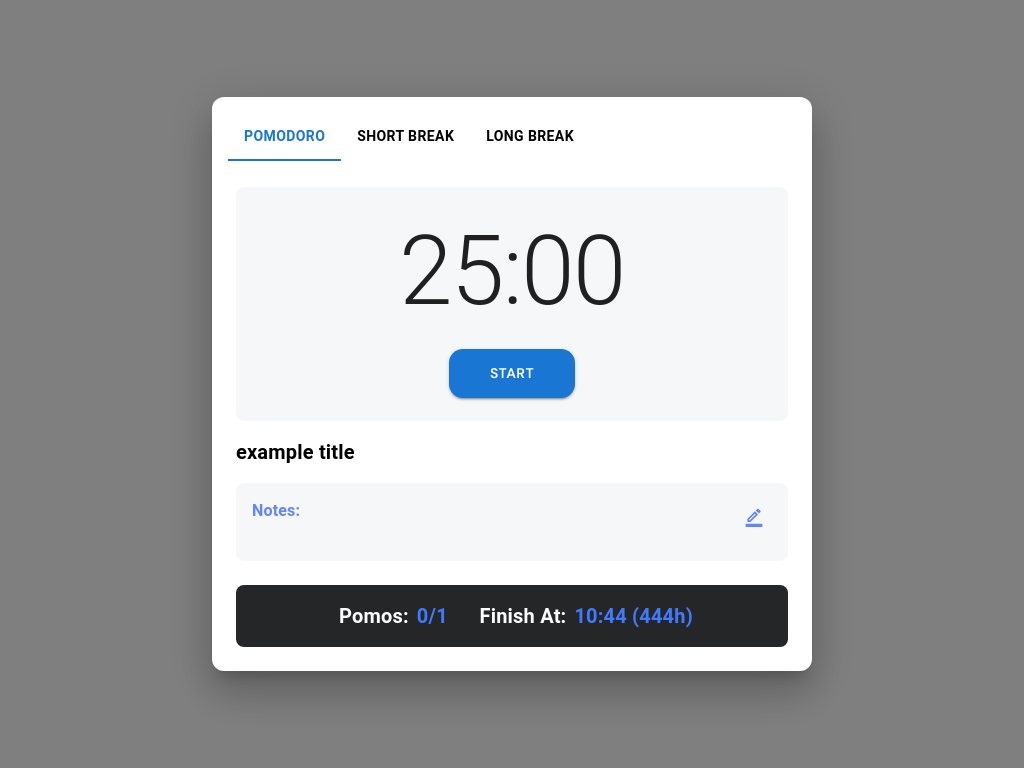
PomoPopup displays long time
Click the tab "Long Break". click: (530, 137)
box: 470,113 -> 590,161
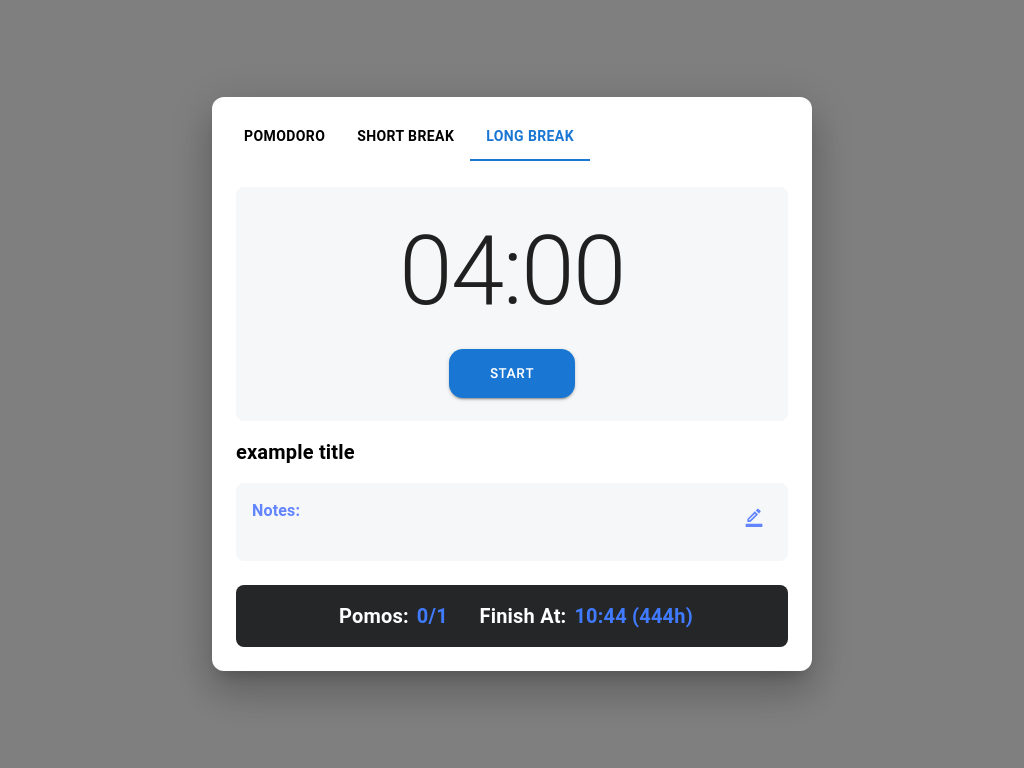
Expected: the heading "04:00" is shown, 399,216 -> 625,328
